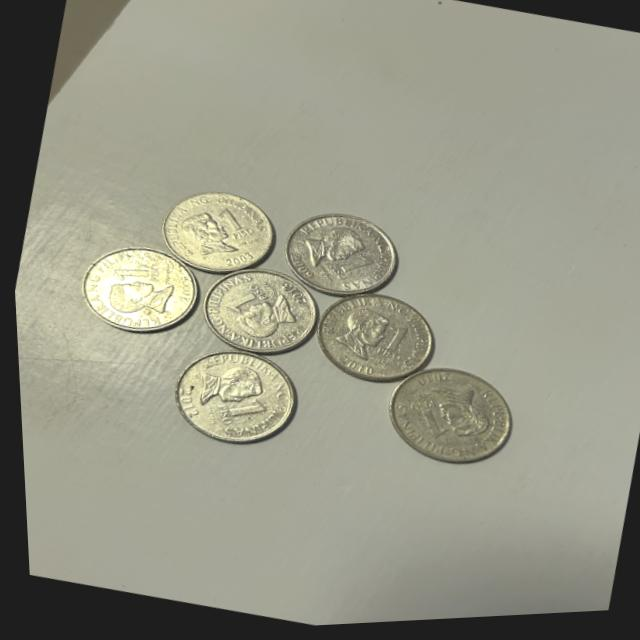1_Old_Front: (205, 389, 274, 444), (360, 322, 416, 381), (396, 395, 454, 451), (197, 205, 256, 249), (322, 247, 370, 291), (218, 279, 265, 317), (108, 256, 158, 288)
